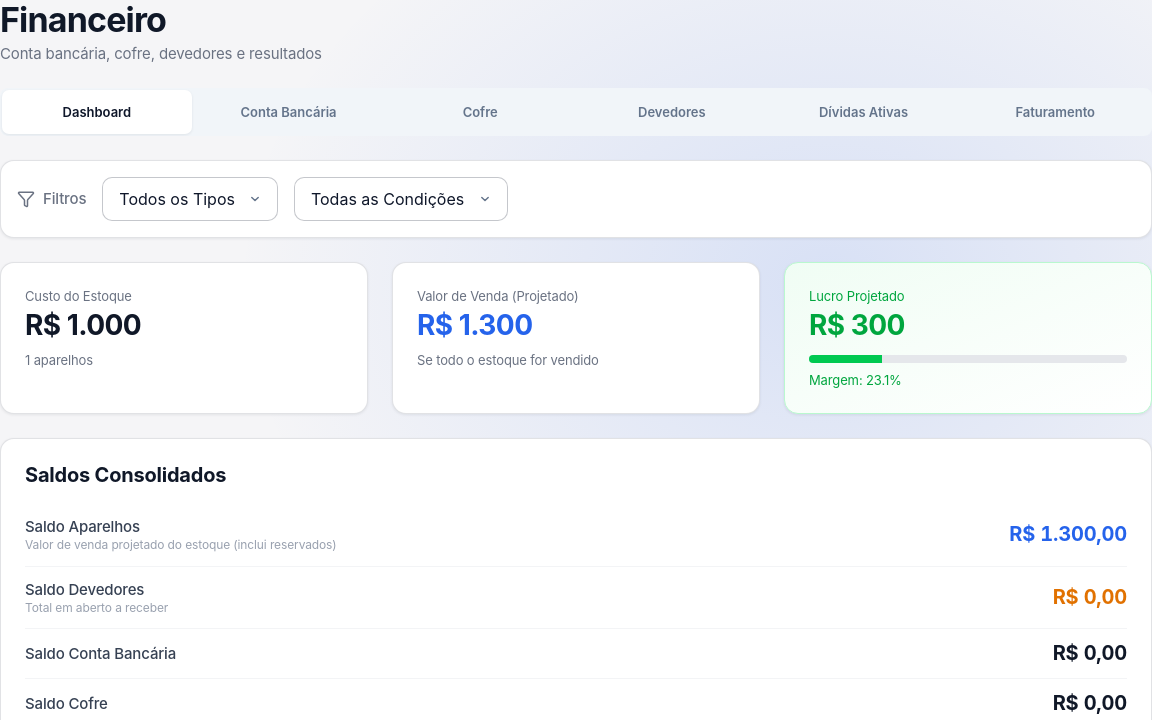
it: Finance page resilience › does not crash when sale has missing items and numeric fields
Click the button "Faturamento" at (1055, 112), box [960,90,1150,134]
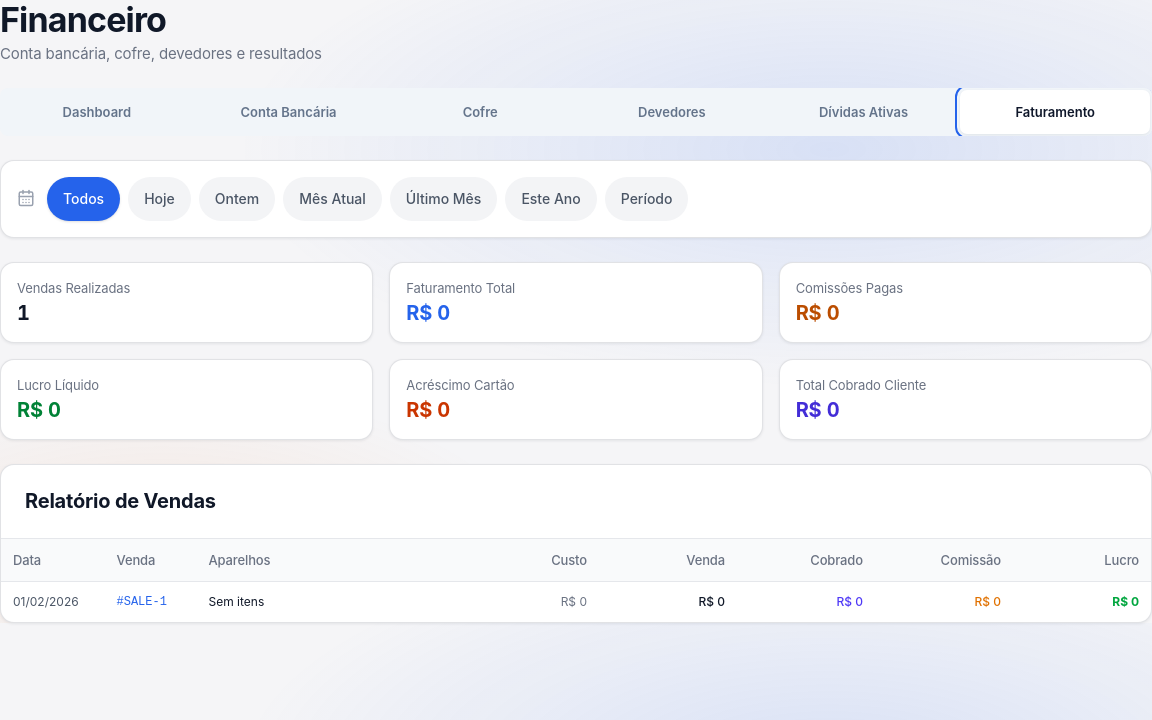
Result: the heading "Relatório de Vendas" is shown at [25,489,216,513]
Result: the text "Sem itens" is shown at [196,582,450,622]
Result: the heading "R$ 0" below "Faturamento Total" is shown at [406,301,450,325]
